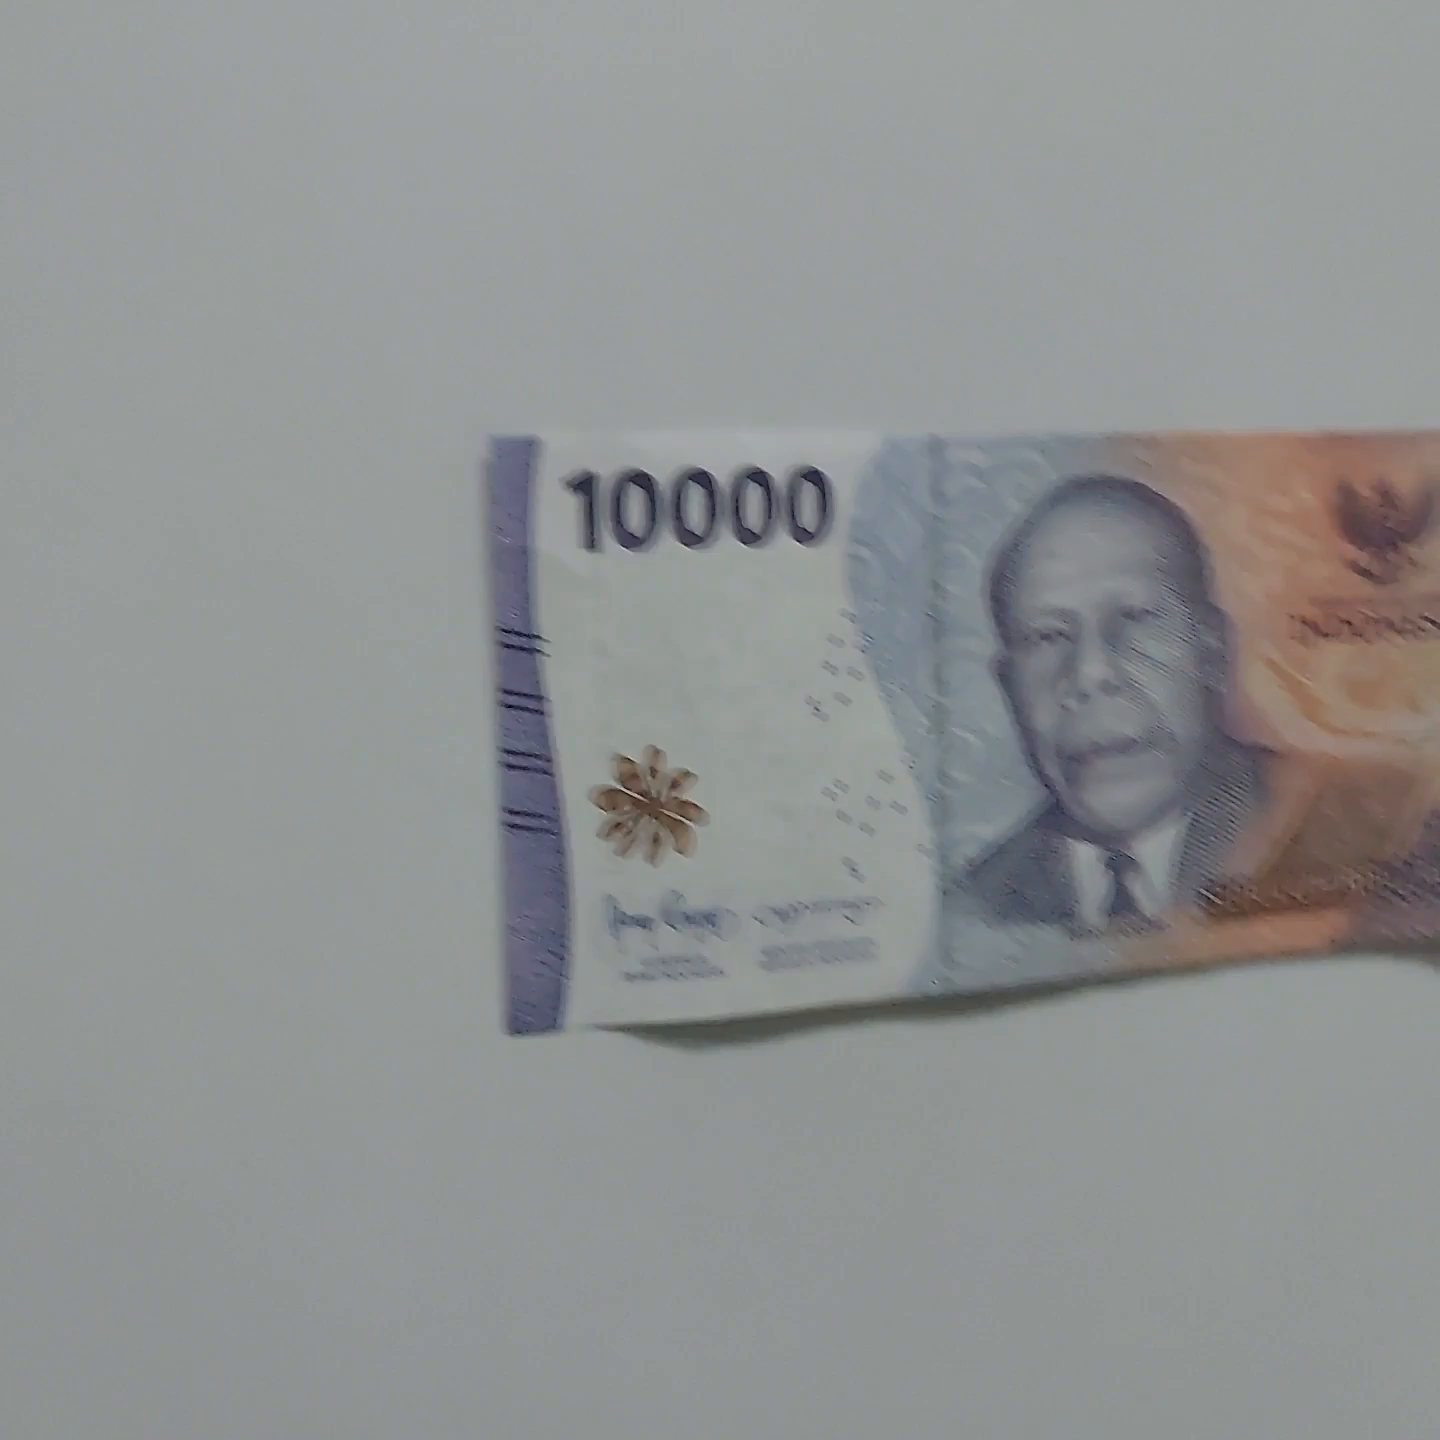10k: (459, 423, 1440, 1030)
